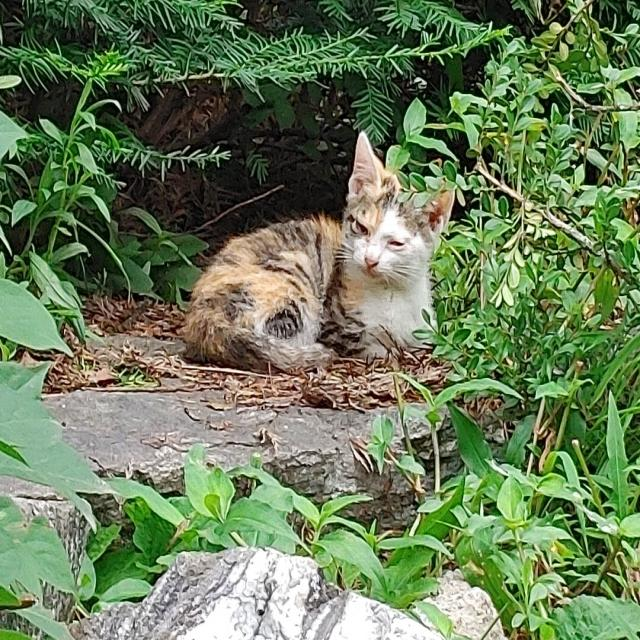cat: (179, 148, 484, 405)
